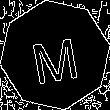M_N: (28, 26, 82, 84)
